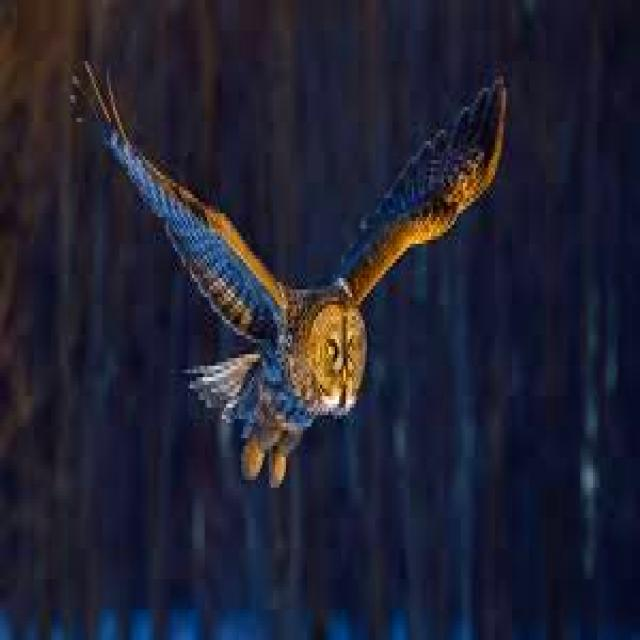owl: (73, 61, 503, 484)
